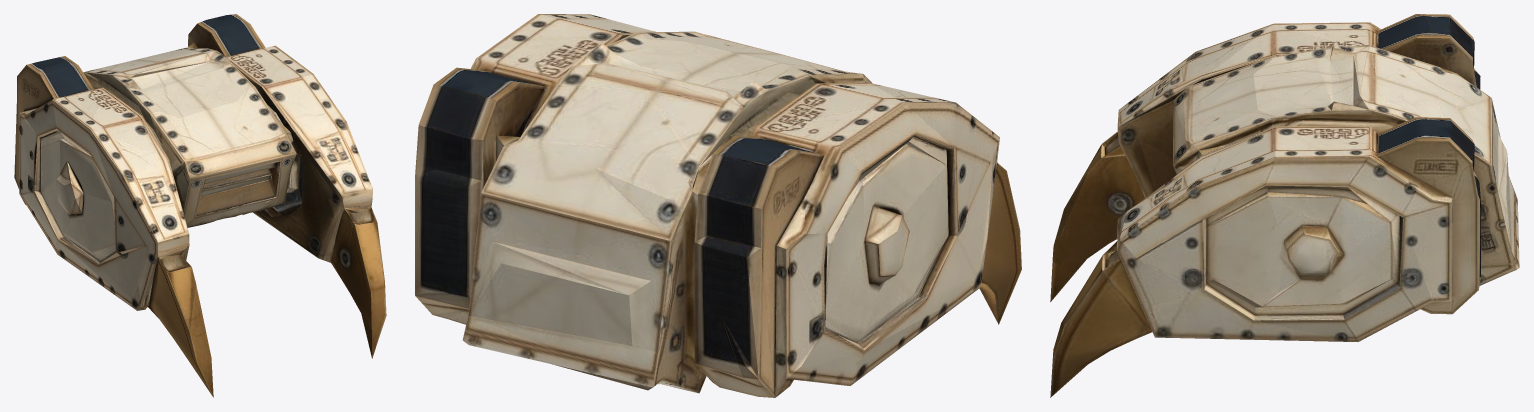
The model's file is module-salvage.glb.
The picture shows the model from 3 angles, left to right: view 1: azimuth 30°, elevation 25°; view 2: azimuth 150°, elevation 25°; view 3: azimuth 270°, elevation 25°; orthographic projection. The views are drawn at different scales.
Size of the model in its own units: 1.42 by 1.24 by 1.9.
1 material, 1 textured.
